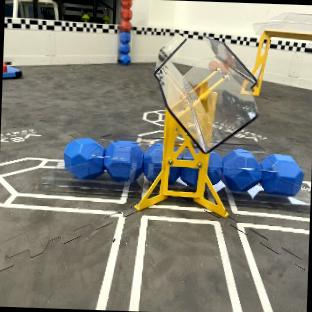V5_BLUE: (208, 149, 303, 198), (64, 138, 142, 181), (144, 142, 162, 181), (119, 31, 131, 63)
